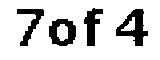4: (114, 4, 155, 52)
7: (15, 3, 45, 50)
f: (82, 4, 104, 50)
o: (47, 17, 81, 51)
